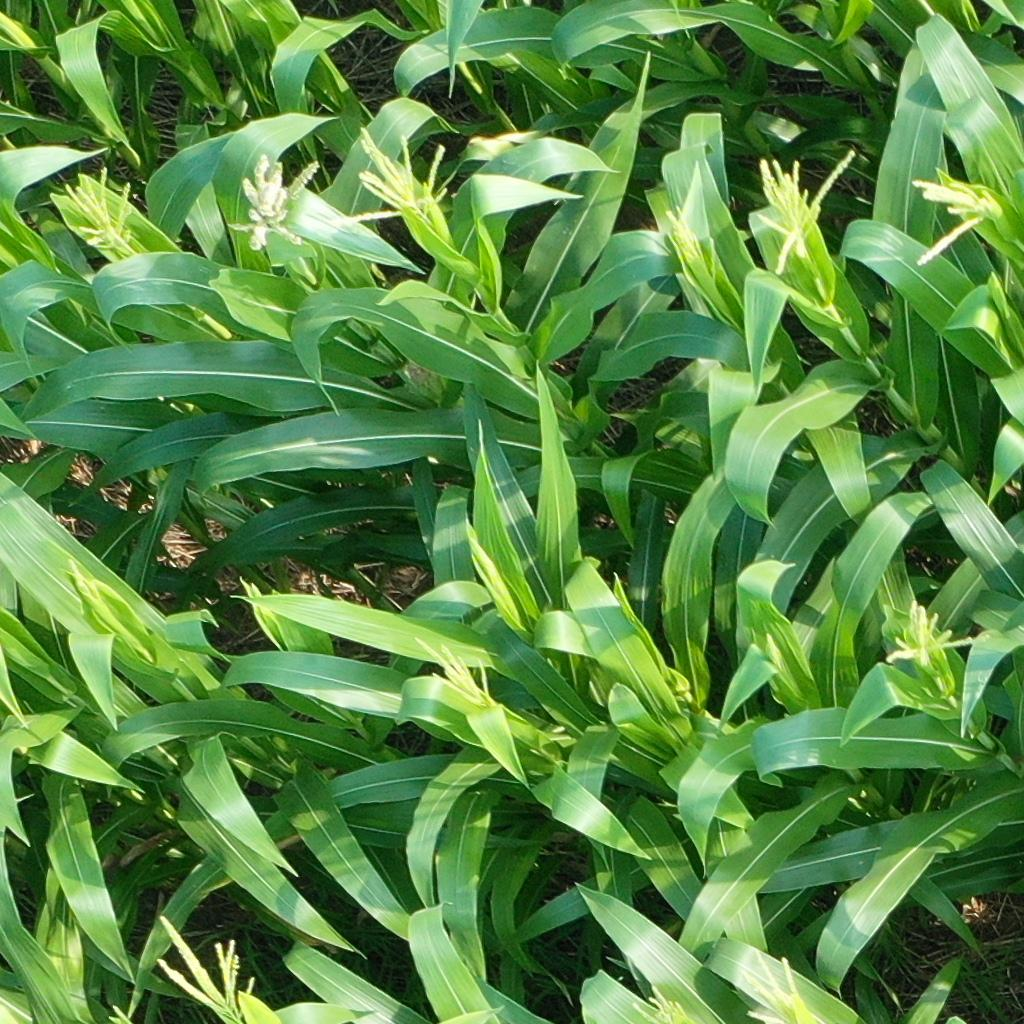Tassel: (751, 146, 859, 283), (333, 123, 457, 230), (151, 911, 258, 1022), (227, 151, 323, 257), (903, 172, 997, 267), (876, 596, 991, 671), (60, 165, 139, 251), (408, 632, 494, 707), (738, 942, 810, 1024), (654, 203, 720, 273), (629, 982, 687, 1024), (467, 537, 506, 590), (63, 551, 94, 598), (761, 630, 783, 668), (106, 1002, 133, 1024)
